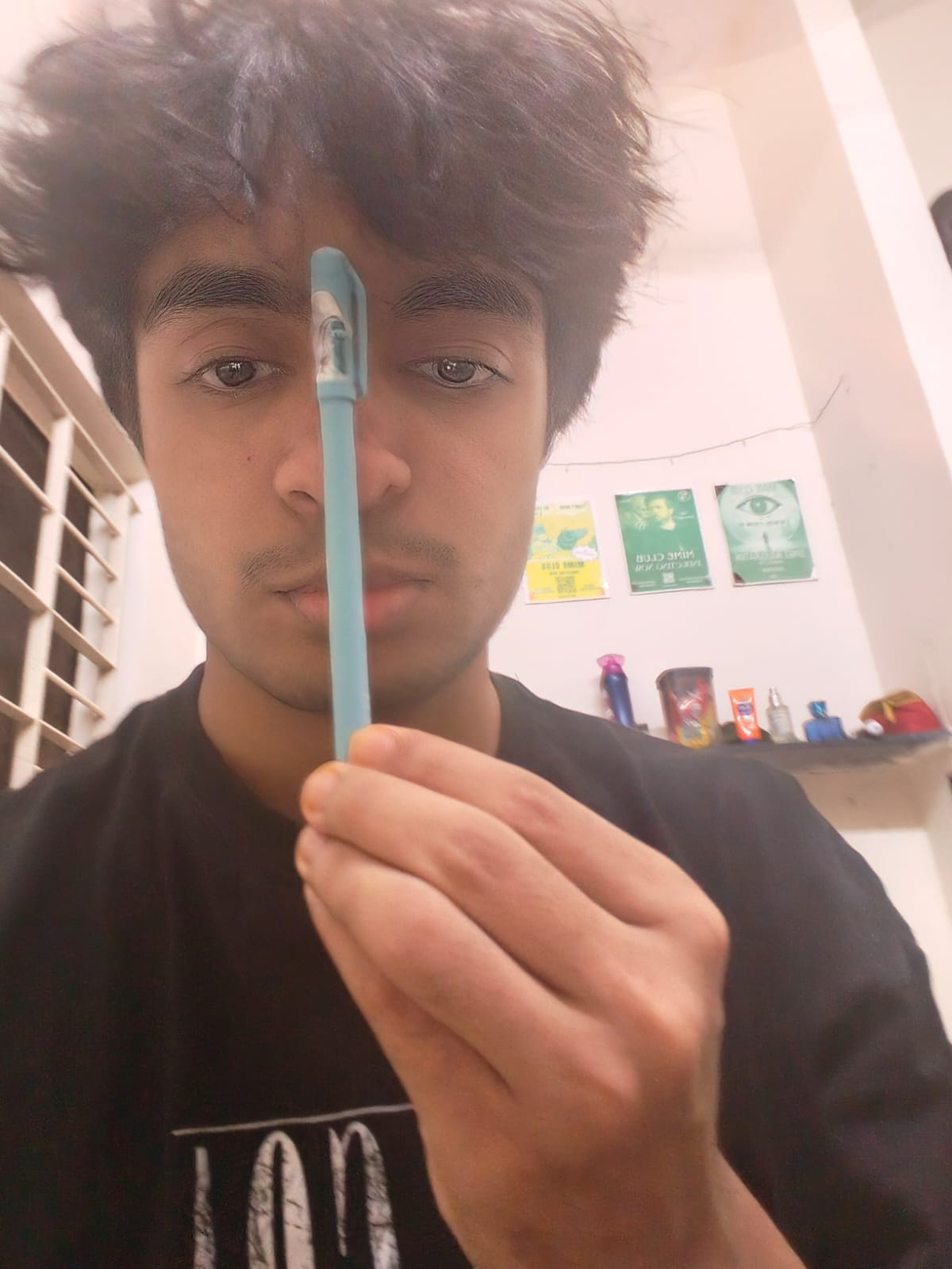pen: (285, 234, 429, 763)
